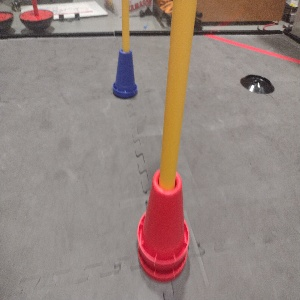Blue_1: (110, 47, 139, 99)
Red_2: (137, 167, 189, 280)
